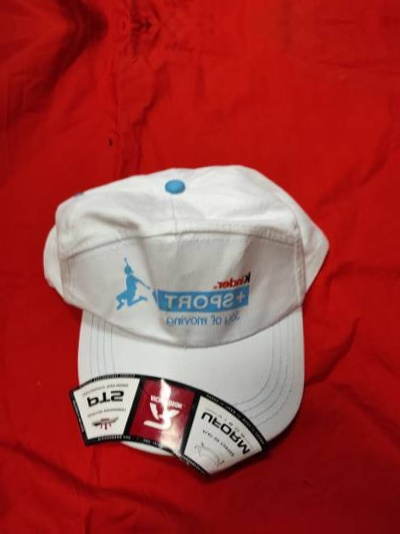Hat: (25, 123, 379, 476)
